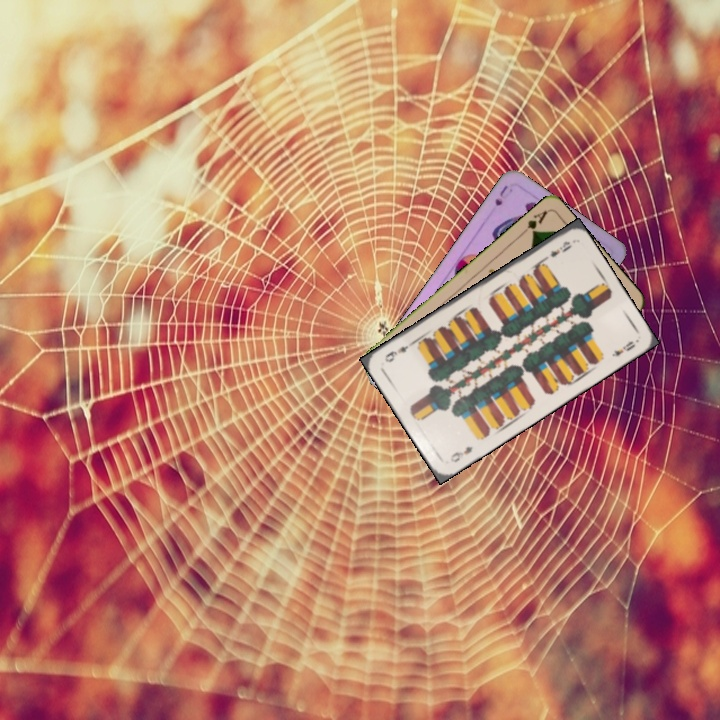E9: (538, 237, 574, 264), (446, 442, 475, 465)
GA: (516, 206, 550, 239)
SU: (491, 181, 514, 209)
